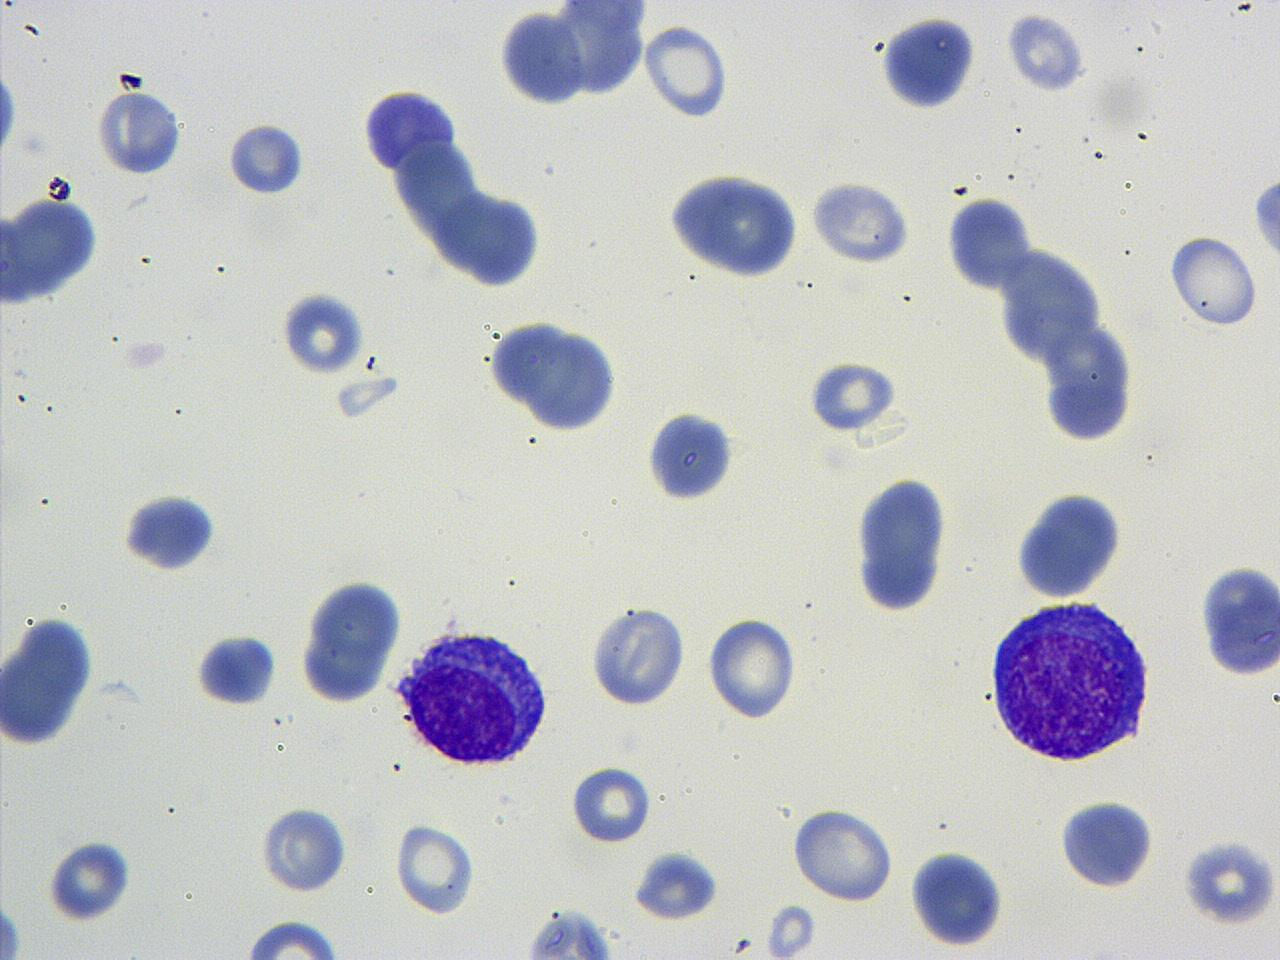Platelets: (1177, 835, 1279, 929), (44, 837, 136, 923), (278, 289, 366, 374), (1004, 6, 1086, 94), (225, 119, 309, 197), (330, 372, 401, 419), (765, 902, 818, 956), (1251, 169, 1280, 264), (119, 336, 172, 373), (92, 674, 142, 706), (0, 70, 18, 156), (0, 904, 23, 960), (18, 129, 51, 158), (1081, 942, 1127, 960), (117, 72, 146, 93), (546, 908, 560, 922)
RBC: (788, 802, 896, 904), (703, 612, 799, 722), (1165, 230, 1261, 329), (942, 194, 1033, 294), (640, 22, 732, 120), (258, 801, 349, 897), (392, 821, 476, 919), (566, 762, 654, 844), (230, 916, 356, 958)
WBC: (970, 199, 1150, 452), (363, 78, 553, 301), (985, 596, 1157, 766), (390, 621, 555, 772), (493, 0, 657, 113), (661, 163, 803, 284), (487, 314, 624, 435), (298, 570, 408, 710), (852, 470, 954, 616), (1012, 484, 1130, 602), (0, 612, 99, 750), (1041, 322, 1143, 447), (1, 192, 105, 309), (787, 801, 898, 904), (906, 844, 1010, 952), (587, 602, 691, 708), (878, 10, 980, 114), (1197, 556, 1280, 682), (1054, 794, 1158, 891), (807, 172, 915, 266), (800, 354, 910, 443), (1165, 230, 1263, 329), (642, 407, 741, 504), (942, 191, 1036, 292), (258, 798, 354, 896), (280, 280, 374, 377), (119, 487, 222, 574), (94, 84, 186, 179), (1004, 9, 1089, 97), (630, 846, 724, 924), (193, 628, 281, 708), (224, 119, 309, 196), (518, 908, 620, 959), (233, 916, 354, 958), (1252, 161, 1280, 268)
